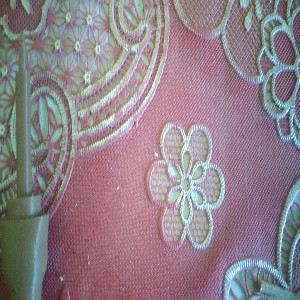solder: (1, 23, 50, 300)
